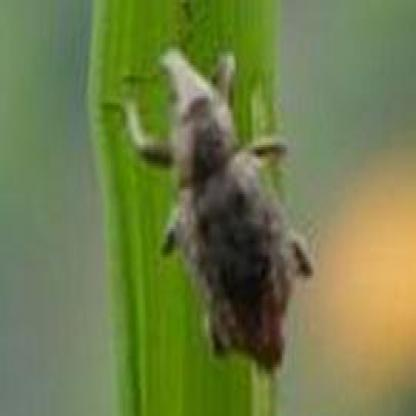rice-bug: (138, 43, 318, 373)
